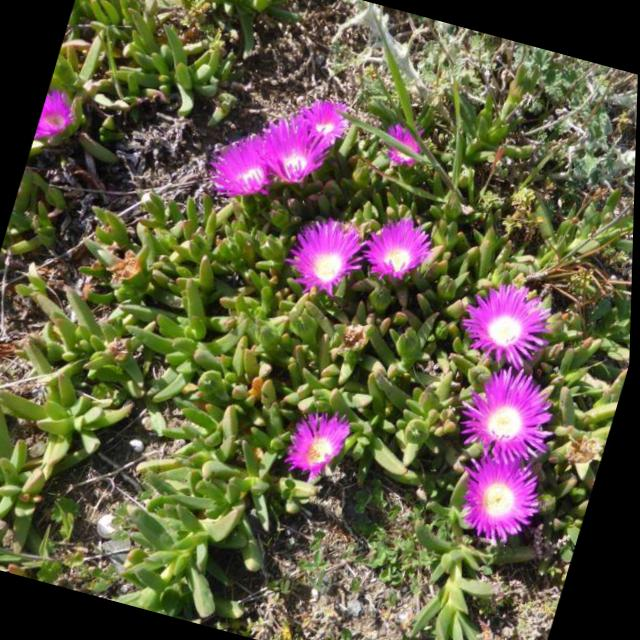Flower: (447, 353, 583, 483), (452, 272, 575, 381), (449, 454, 553, 554), (284, 209, 380, 304), (193, 111, 289, 205), (244, 94, 335, 192), (279, 398, 366, 483), (360, 209, 441, 291), (287, 77, 360, 163), (35, 80, 93, 162), (365, 113, 431, 182)
